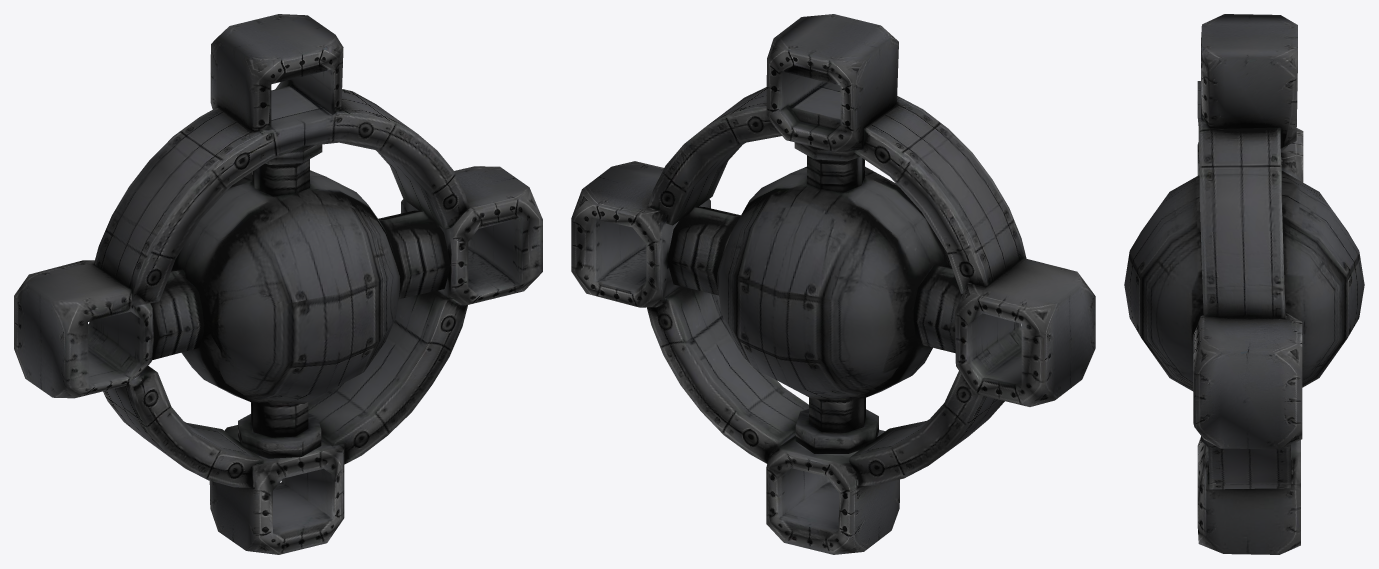
File: cold-iron-v2-joint-b-gimbal.glb
3 renders of one model, left to right at view 1: azimuth 30°, elevation 25°; view 2: azimuth 150°, elevation 25°; view 3: azimuth 270°, elevation 25°, orthographic.
Visible parts, largest first — view 1: tripo_node_1c1e53ed-55d7-4b0d-8486-86f54354ab4b; view 2: tripo_node_1c1e53ed-55d7-4b0d-8486-86f54354ab4b; view 3: tripo_node_1c1e53ed-55d7-4b0d-8486-86f54354ab4b.
Part boxes in pixels (<box>): tripo_node_1c1e53ed-55d7-4b0d-8486-86f54354ab4b: <box>14,14,542,554</box>; tripo_node_1c1e53ed-55d7-4b0d-8486-86f54354ab4b: <box>571,14,1095,554</box>; tripo_node_1c1e53ed-55d7-4b0d-8486-86f54354ab4b: <box>1124,14,1364,554</box>.
Bounding box in the file's own units: 0.998 × 0.9941 × 0.4355.
Materials: 1 (1 with a texture image).
